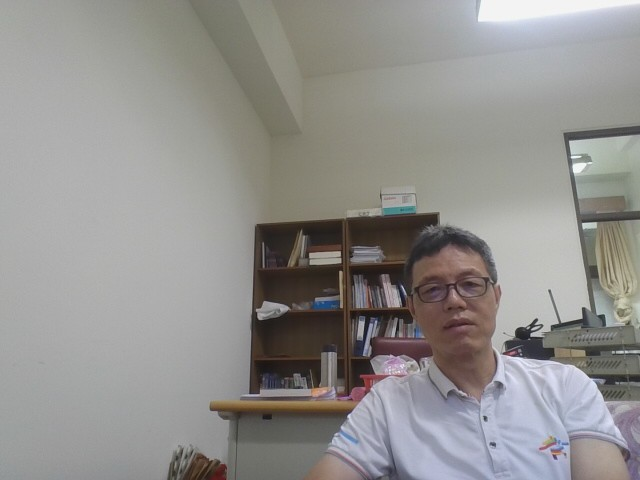No_Helmet: (400, 221, 505, 376)
person: (260, 204, 640, 480)
